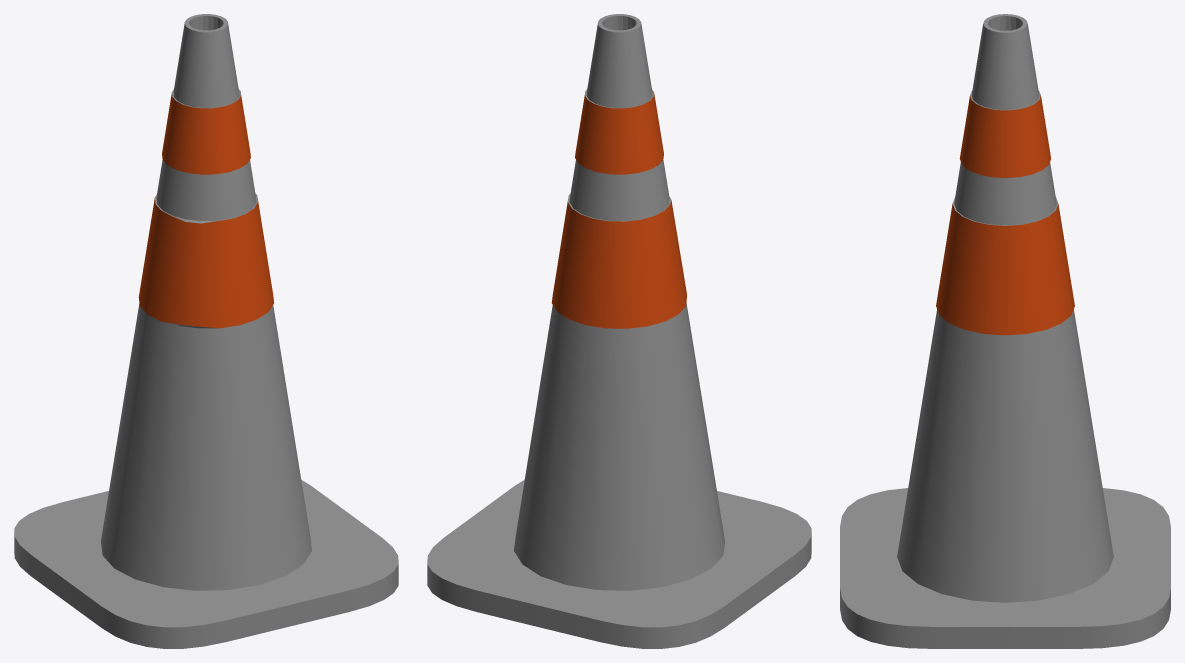
File: Cone_Spencer.FBX
3 views of the same model, side by side, from view 1: azimuth 30°, elevation 25°; view 2: azimuth 150°, elevation 25°; view 3: azimuth 270°, elevation 25° (orthographic). The views are drawn at different scales.
Parts seen in each view (by area): view 1: Box001; view 2: Box001; view 3: Box001.
Part boxes in pixels (left/top/right/bottom): Box001: left=14, top=14, right=398, bottom=648; Box001: left=427, top=14, right=811, bottom=648; Box001: left=840, top=14, right=1170, bottom=648.
Bounding box in the file's own units: 22.92 × 42.47 × 22.92.
